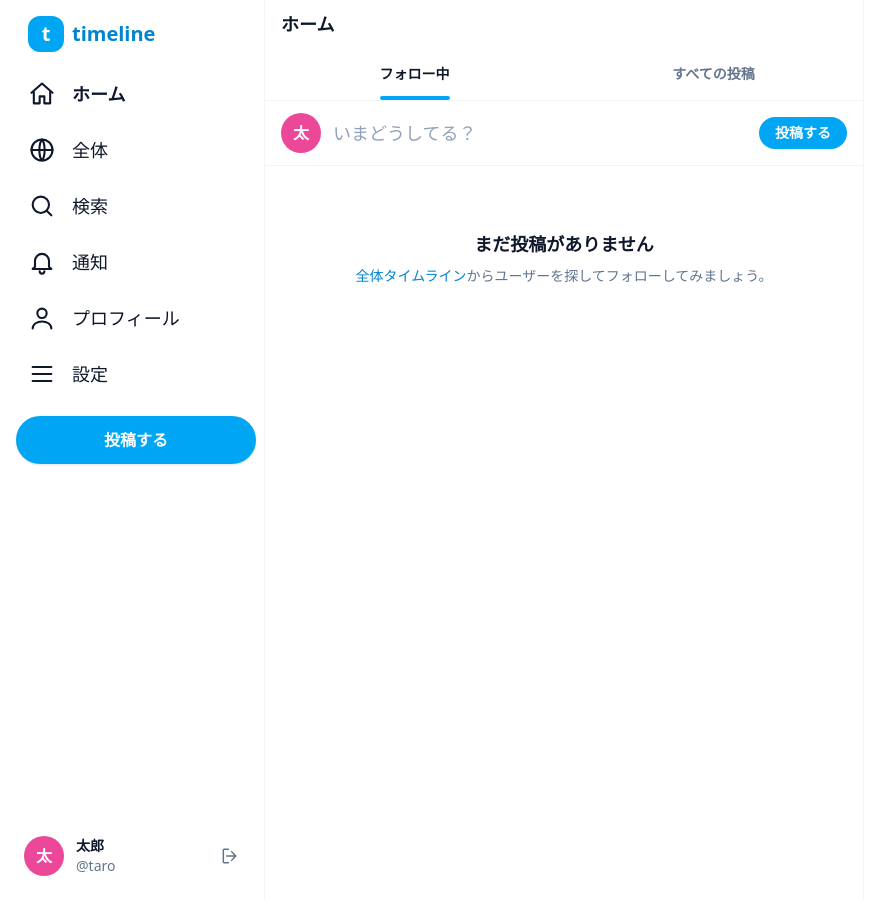
it: ログイン画面 › ログイン必須の画面でログアウトすると、ログイン画面ではなくトップへ移る
Expected: the heading "ホーム" is shown, [281, 10, 334, 38]
Click the button named "ログアウト" at point(230, 856), box [212, 838, 248, 874]
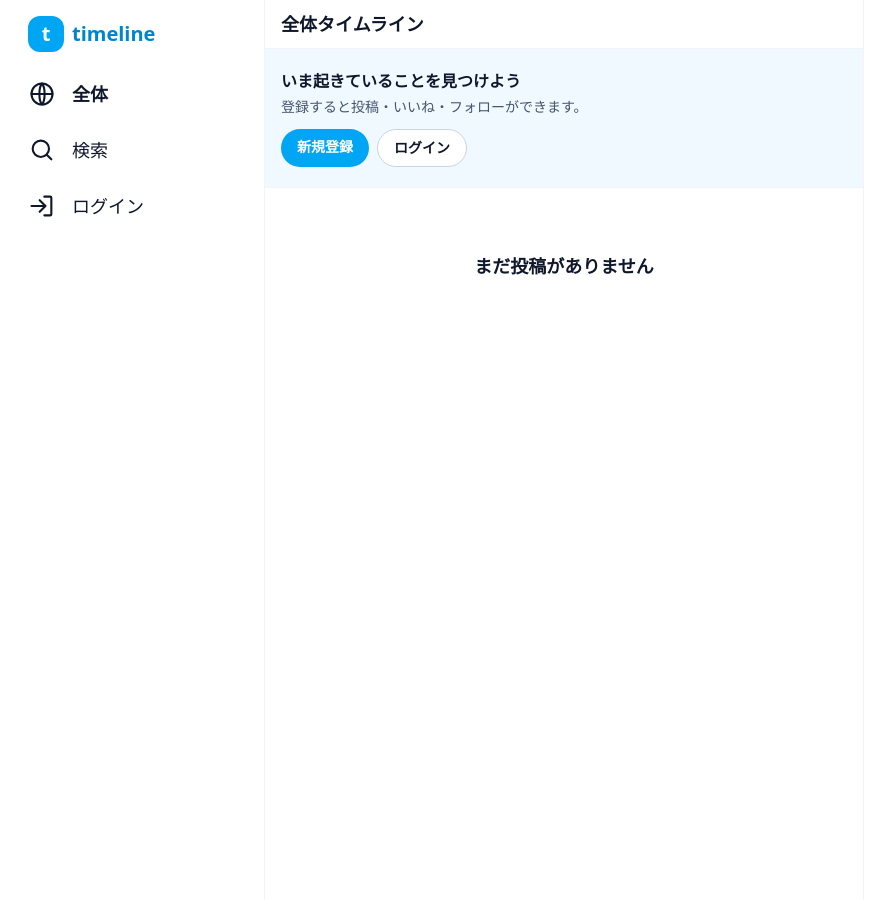
Expected: the heading "全体タイムライン" is shown, [281, 10, 424, 38]
Expected: the button "ログアウト" is gone
